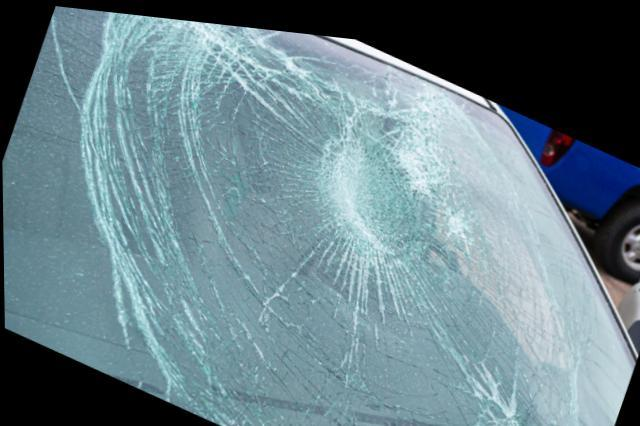glass shatter: (2, 5, 635, 426)
